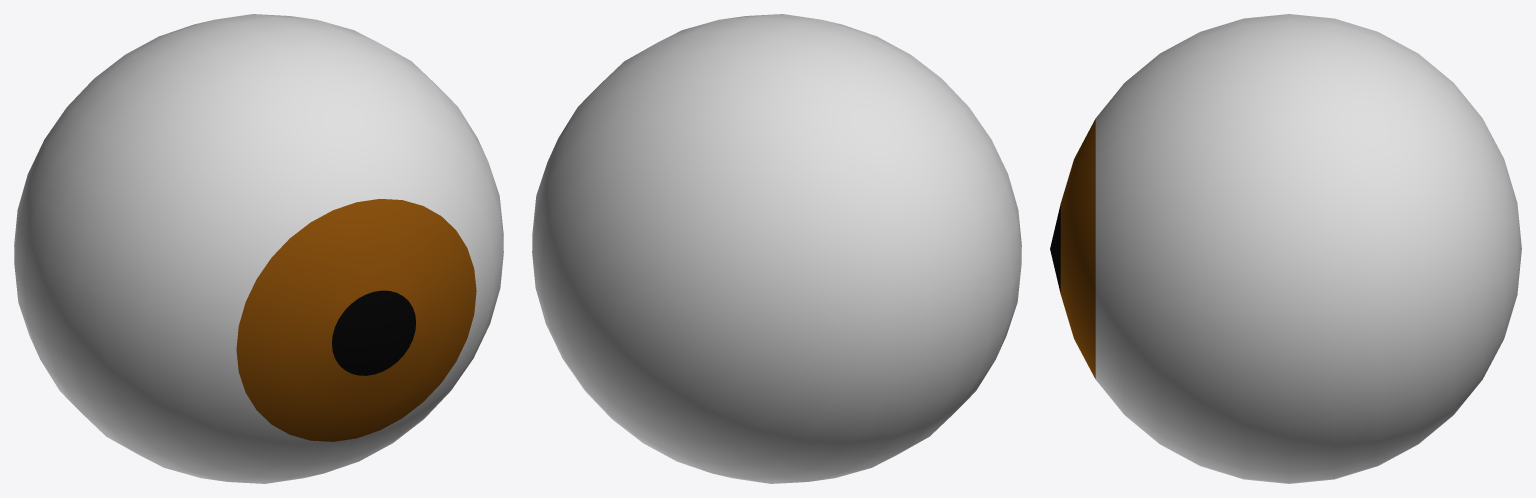
The model's file is eye-cosmetic-get-gains.fbx.
3 views of the same model, side by side, from view 1: azimuth 30°, elevation 25°; view 2: azimuth 150°, elevation 25°; view 3: azimuth 270°, elevation 25° (orthographic).
Visible parts, largest first — view 1: Sphere; view 2: Sphere; view 3: Sphere.
Boxes of the visible parts, x1,y1,x2,y2 form: Sphere: (14, 14, 503, 483); Sphere: (532, 14, 1021, 483); Sphere: (1050, 14, 1521, 483).
Bounding box in the file's own units: 30.12 × 28.31 × 28.69.
